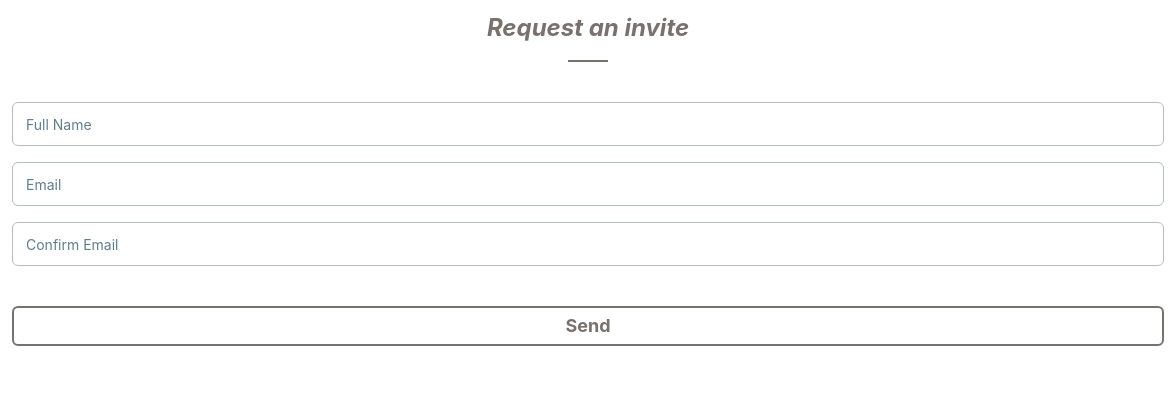
should display the error message if sent a bad request
Type "test" into the field with test id "input-full-name" at (588, 124), box [12,102,1164,146]
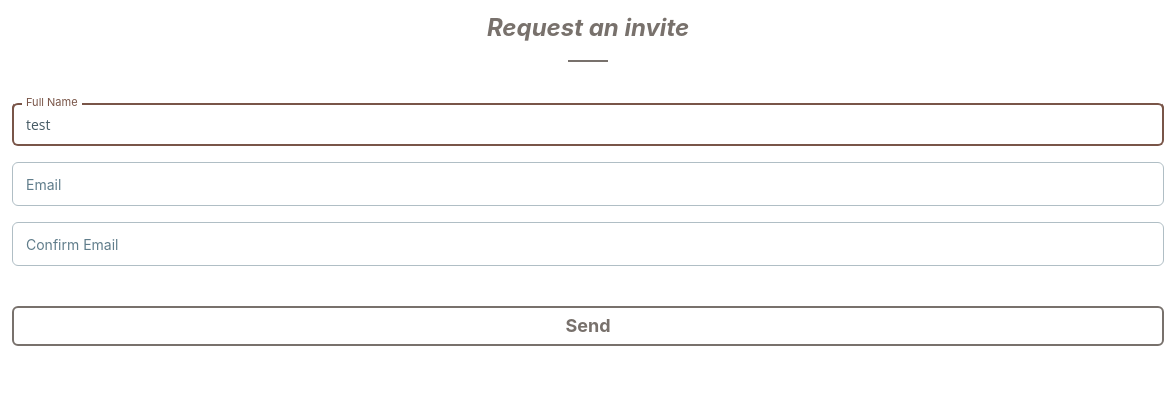
Type "usedemail@airwallex.com" into the field with test id "input-email" at (588, 184), box [12,162,1164,206]
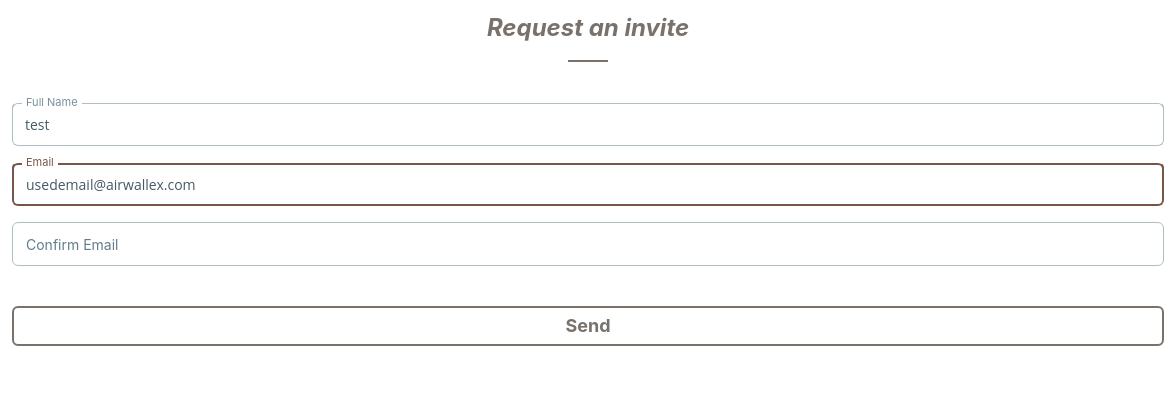
Type "usedemail@airwallex.com" into the field with test id "input-confirm-email" at (588, 244), box [12,222,1164,266]
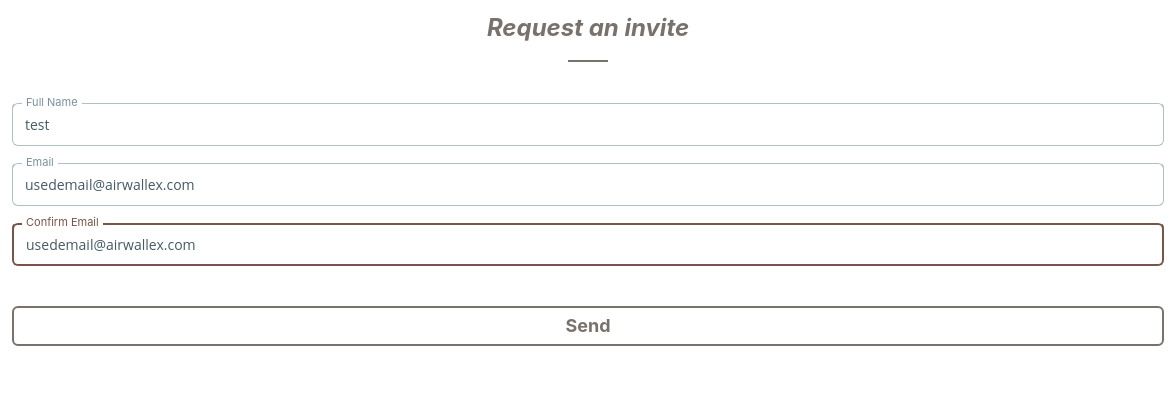
Click the button with test id "modal-button" at (588, 326), box [12,306,1164,346]
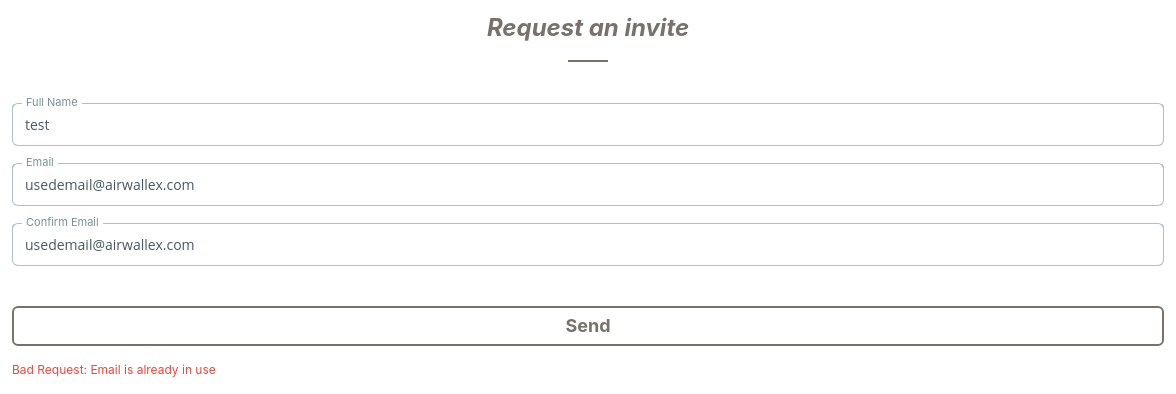
Expected: the text with test id "error-message" reads "Bad Request: Email is already in use", [12,362,216,377]
